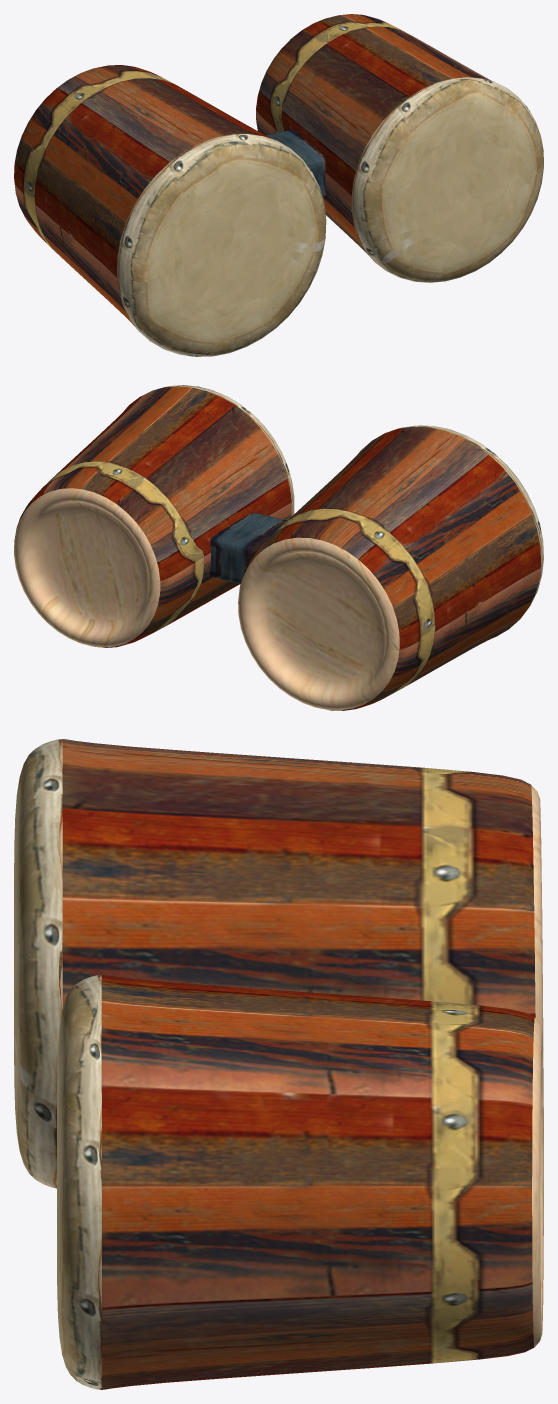
File: 10370_Bongo_v1_L3.obj
3 views of the same model, one above another, from view 1: azimuth 30°, elevation 25°; view 2: azimuth 150°, elevation 25°; view 3: azimuth 270°, elevation 25° (orthographic). The views are drawn at different scales.
Visible parts, largest first — view 1: 10370_Bongo_v01; view 2: 10370_Bongo_v01; view 3: 10370_Bongo_v01.
Boxes of the visible parts, x1,y1,x2,y2 form: 10370_Bongo_v01: (14,14,543,356); 10370_Bongo_v01: (14,385,543,710); 10370_Bongo_v01: (14,739,543,1389).
Bounding box in the file's own units: 394 × 187 × 220.
